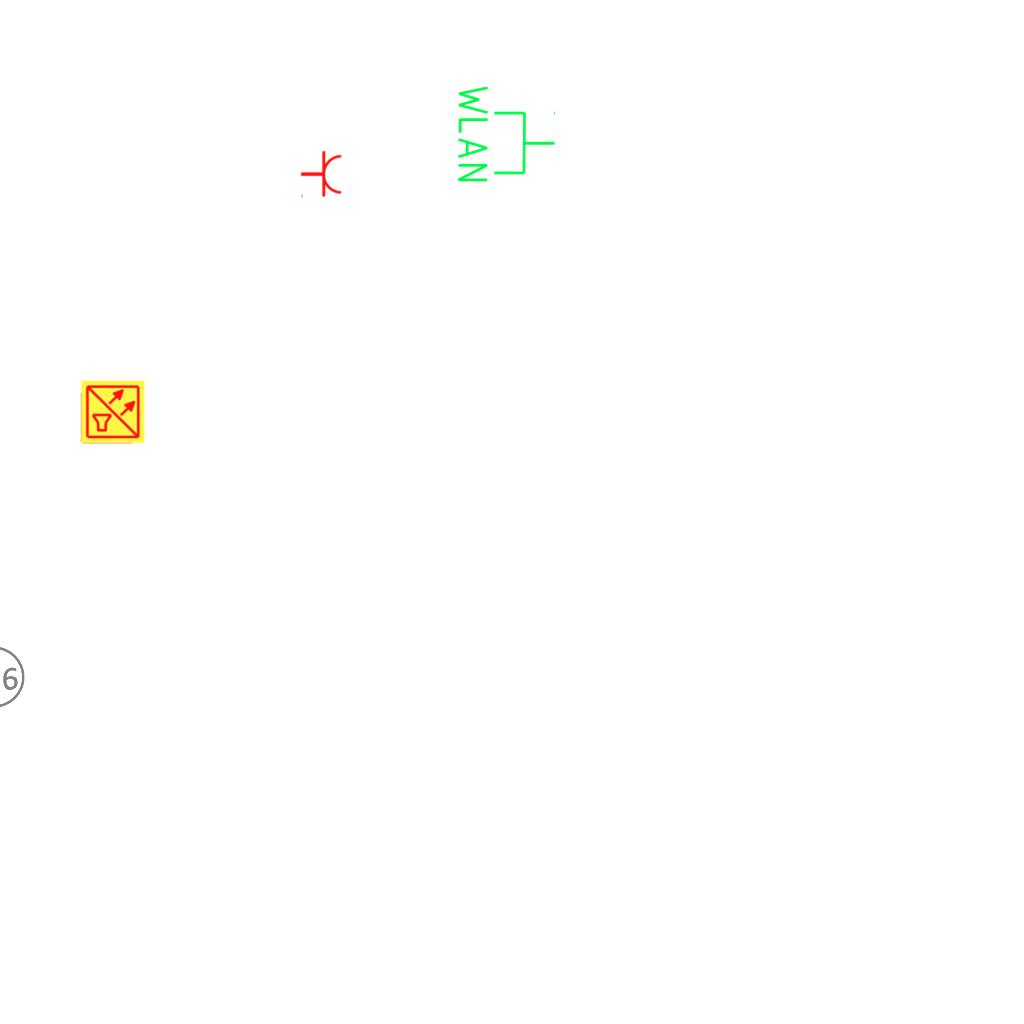OKW_Multisensormelder_(Kombination_optischer_Rauch-Kahlenmonoxid_Waerme-Melder): (80, 379, 146, 445)
Schukosteckdose_einfach: (300, 150, 343, 200)
WLAN: (454, 81, 558, 186)
